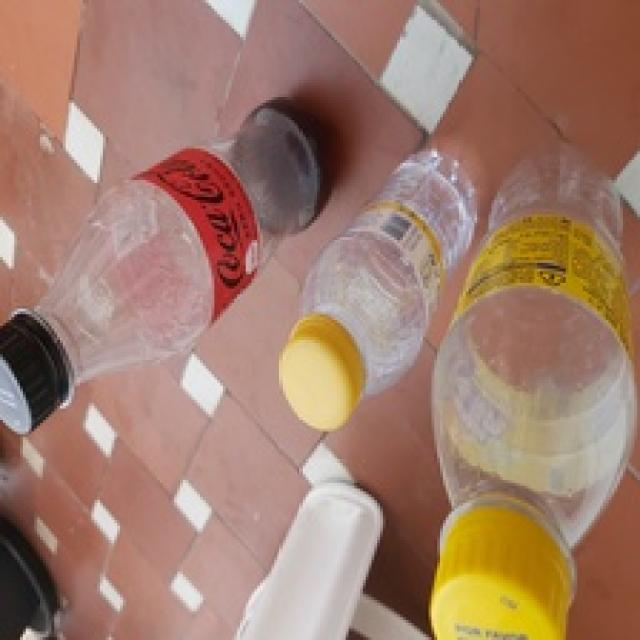bottle: (0, 81, 328, 473), (437, 132, 630, 637), (272, 122, 482, 432)
